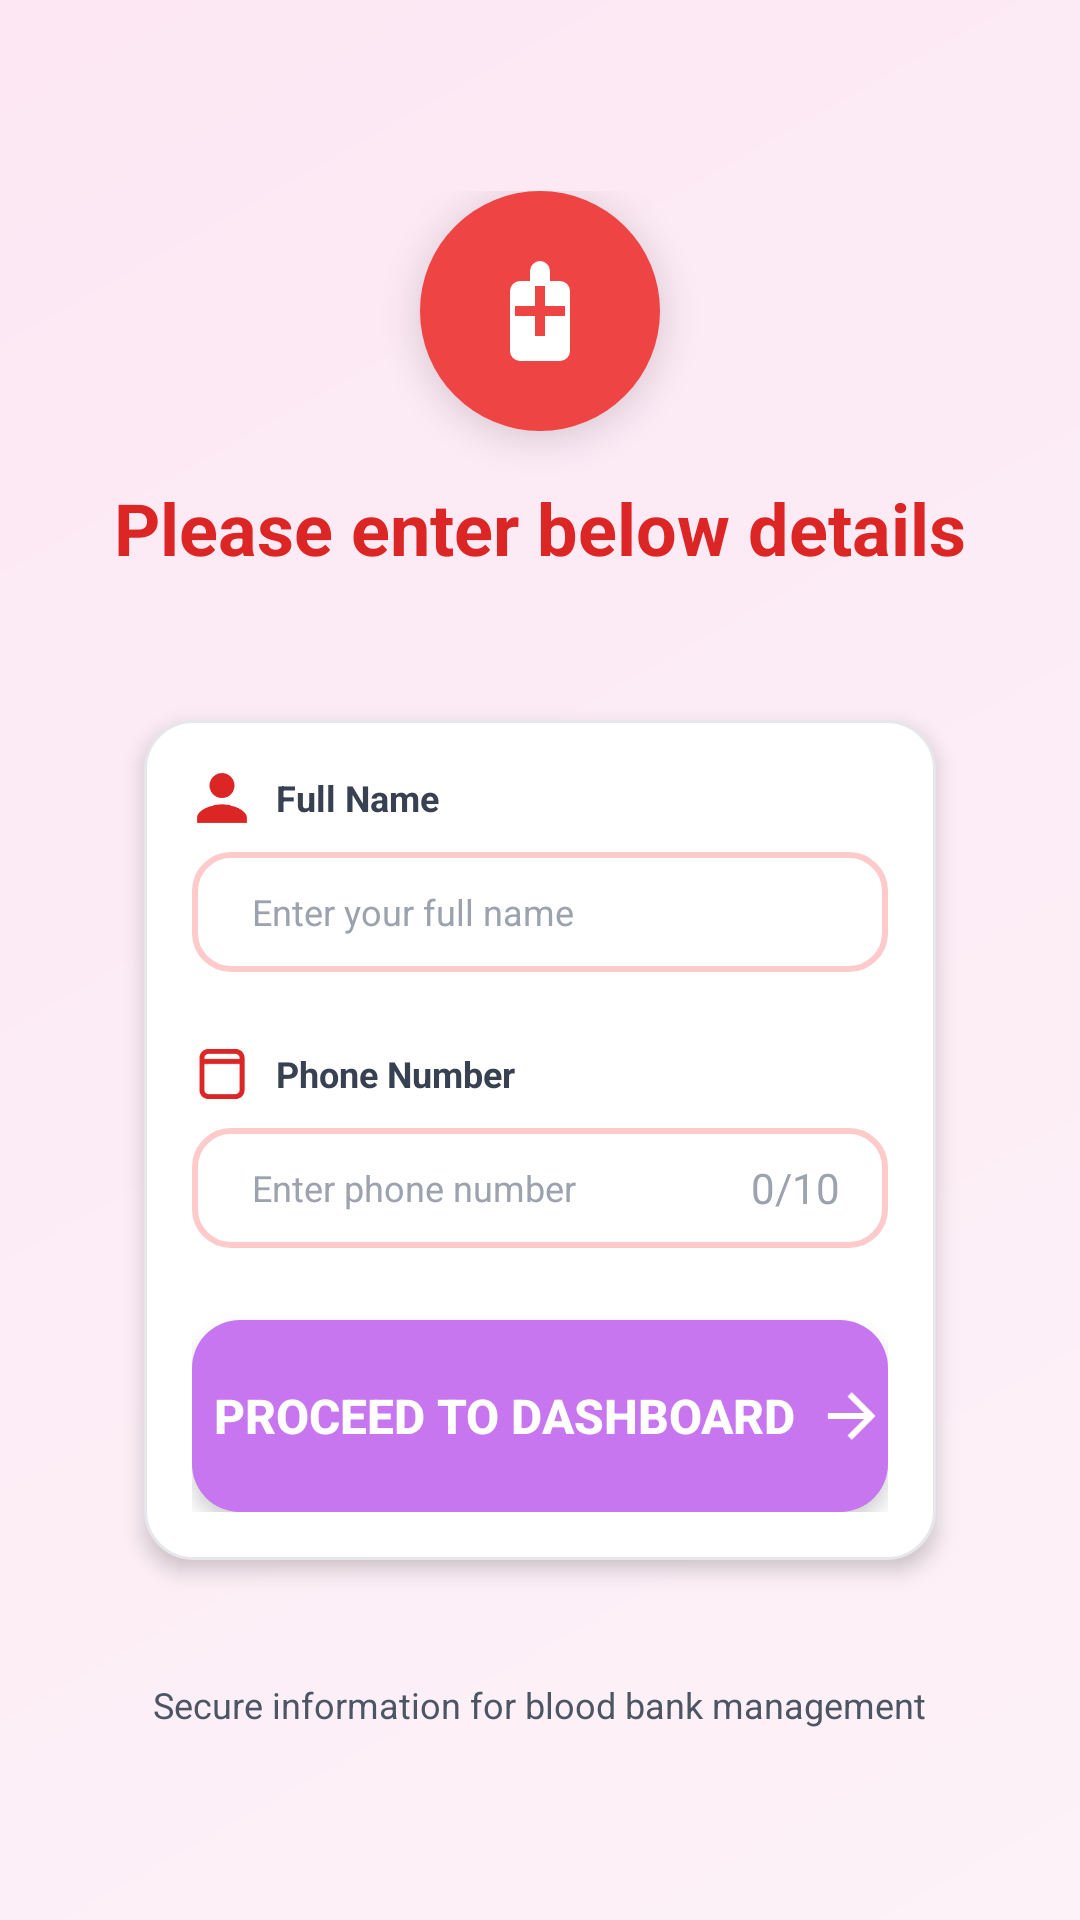

Point at icon controls on the screen. Image size 1080 × 1920, points as point (x, y).
Hospital Icon: point (540, 311)
user: point (222, 798)
